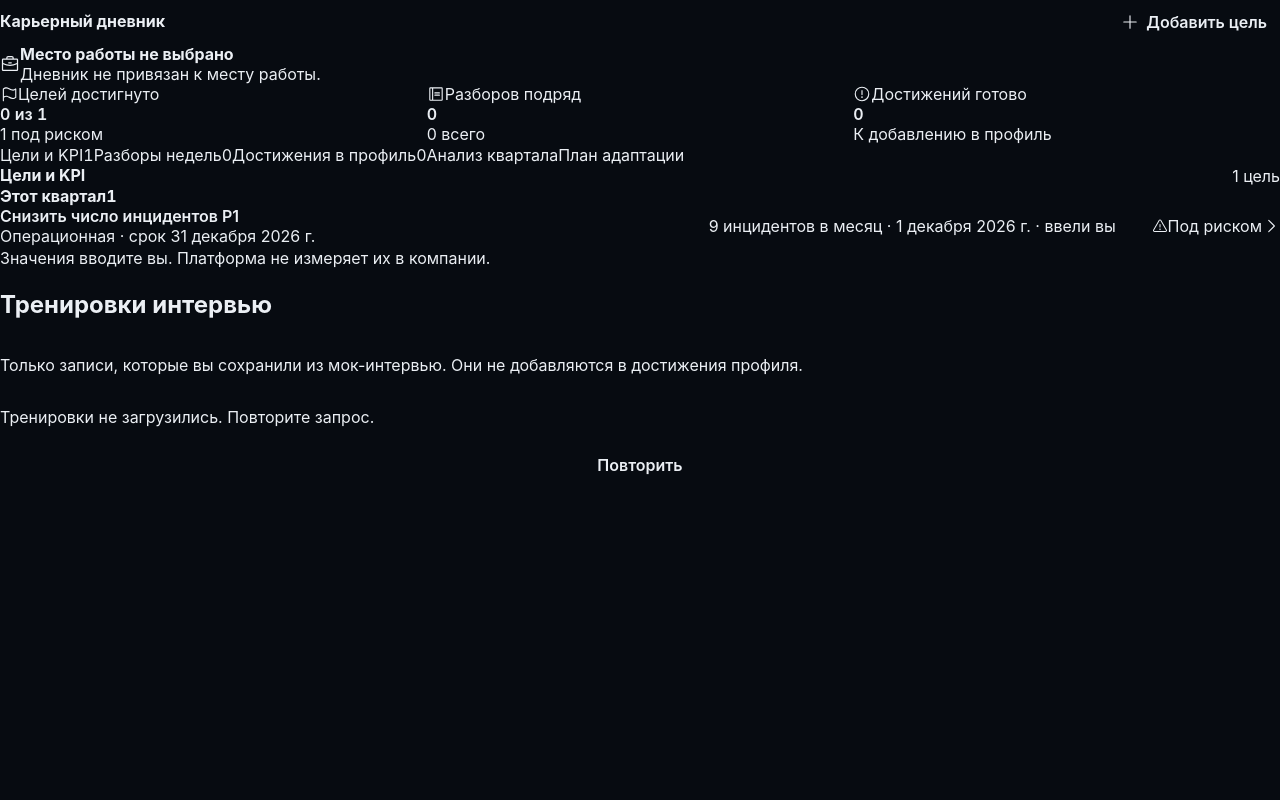
Test: CareerDiaryPage goals › opens an empty goal form and explains required fields before saving
Click the button "Добавить цель": (1194, 22) left=1108, top=0, right=1279, bottom=44
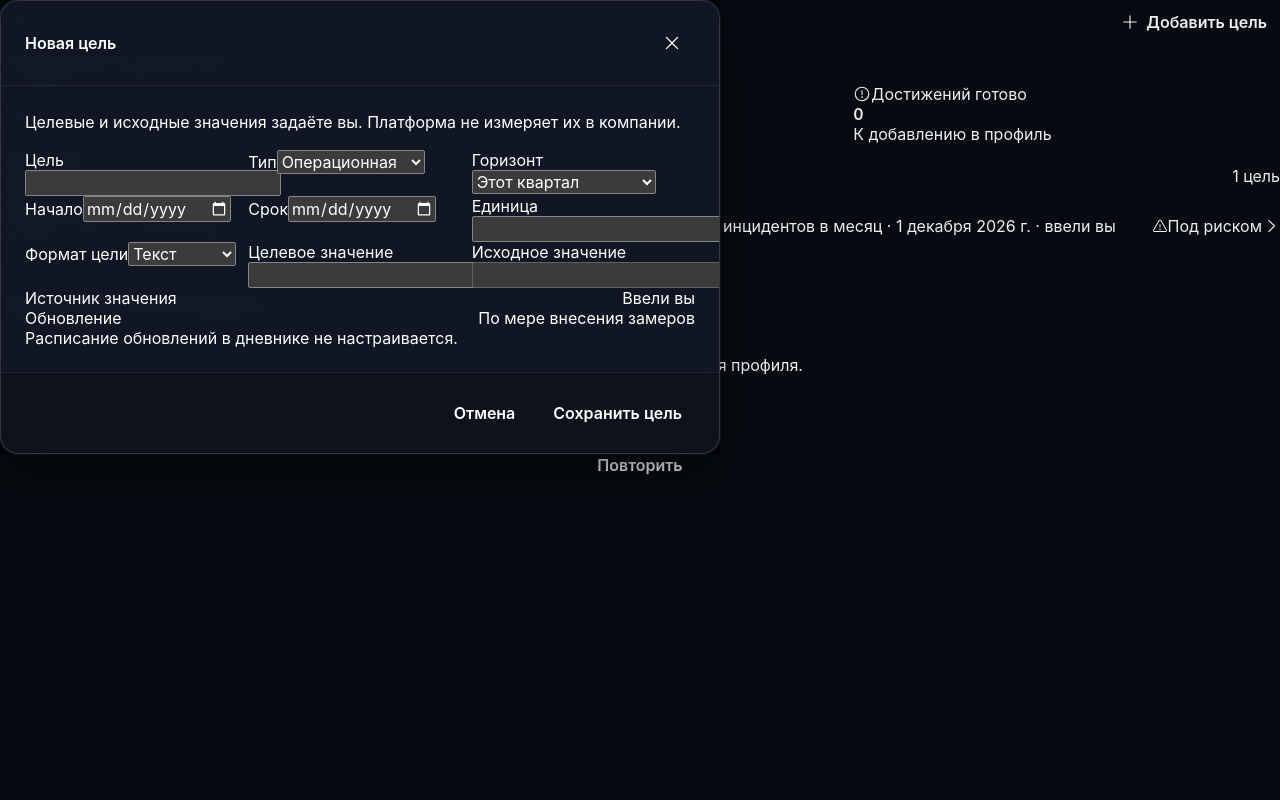
Now the dialog is shown, box left=0, top=0, right=720, bottom=454
Click the button "Сохранить цель": (618, 413) left=540, top=391, right=695, bottom=435
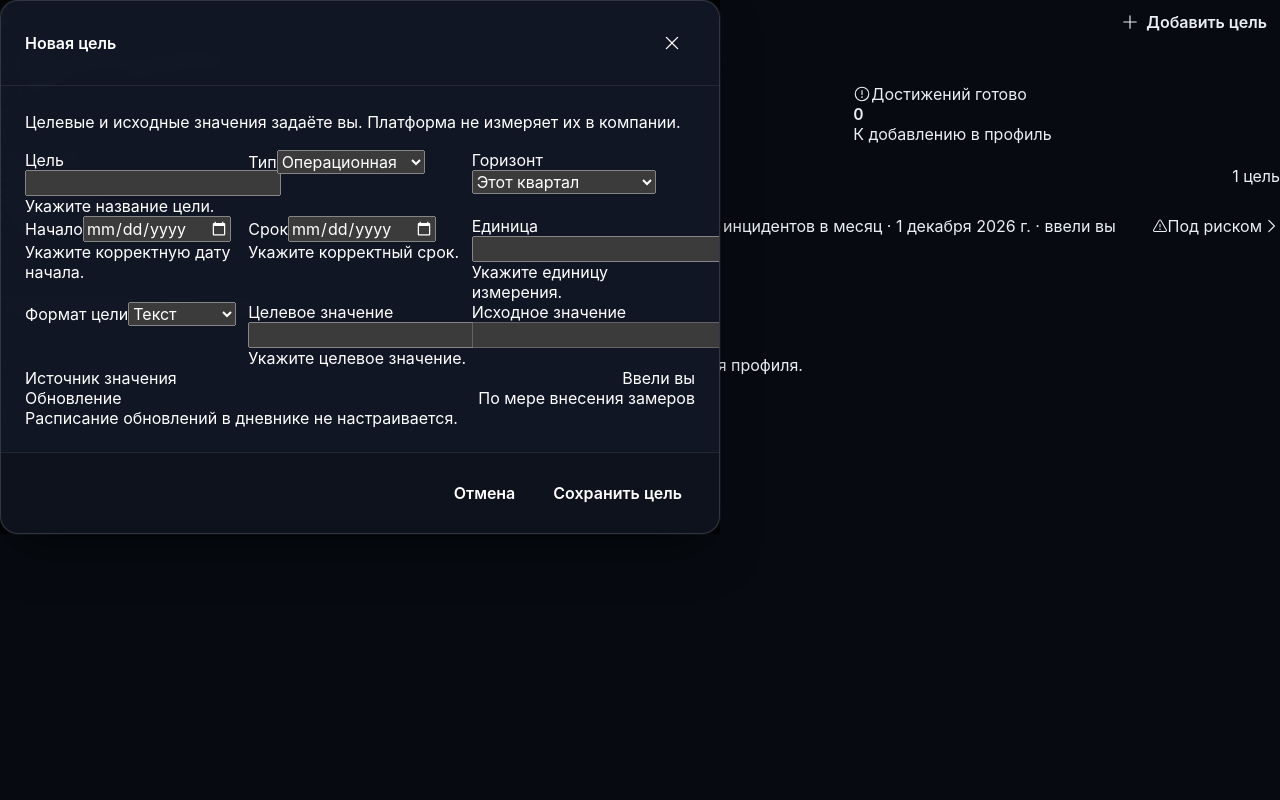
Now the text "Укажите название цели." is shown, box left=25, top=196, right=214, bottom=216
